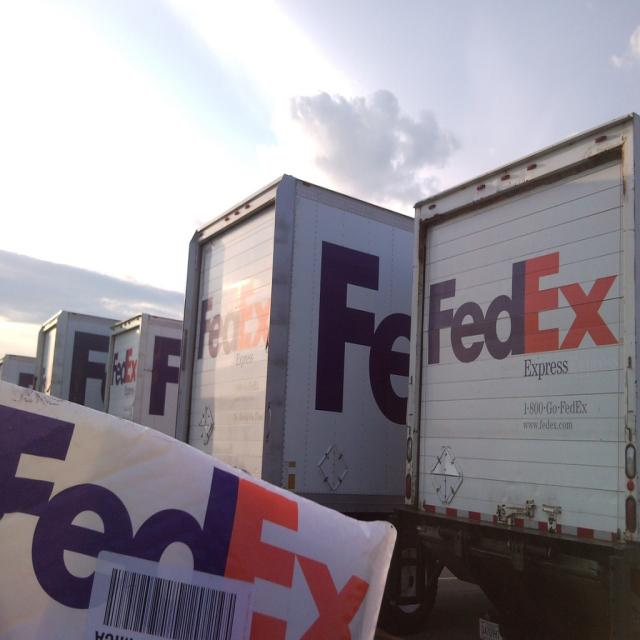fedex: (2, 397, 372, 640), (424, 247, 624, 370), (314, 240, 414, 429), (195, 277, 275, 363), (113, 348, 139, 387)
